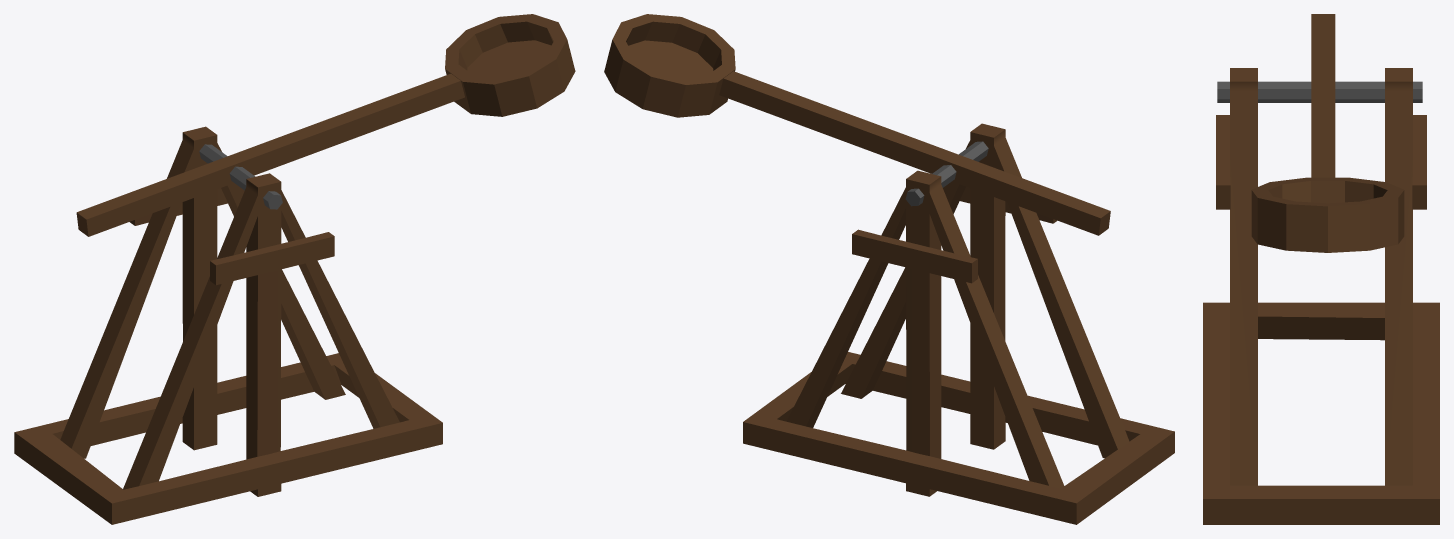
File: Seige.fbx
The picture shows the model from 3 angles, left to right: view 1: azimuth 30°, elevation 25°; view 2: azimuth 150°, elevation 25°; view 3: azimuth 270°, elevation 25°; orthographic projection. The views are drawn at different scales.
Visible parts, largest first — view 1: Frame, Arm; view 2: Frame, Arm; view 3: Frame, Arm.
Boxes of the visible parts, <box> form: Frame: <box>14,126,442,524</box>; Arm: <box>76,14,575,236</box>; Frame: <box>743,123,1174,524</box>; Arm: <box>604,14,1110,235</box>; Frame: <box>1203,68,1439,524</box>; Arm: <box>1217,14,1422,252</box>.
Bounding box in the file's own units: 6.22 × 4.25 × 2.07.
